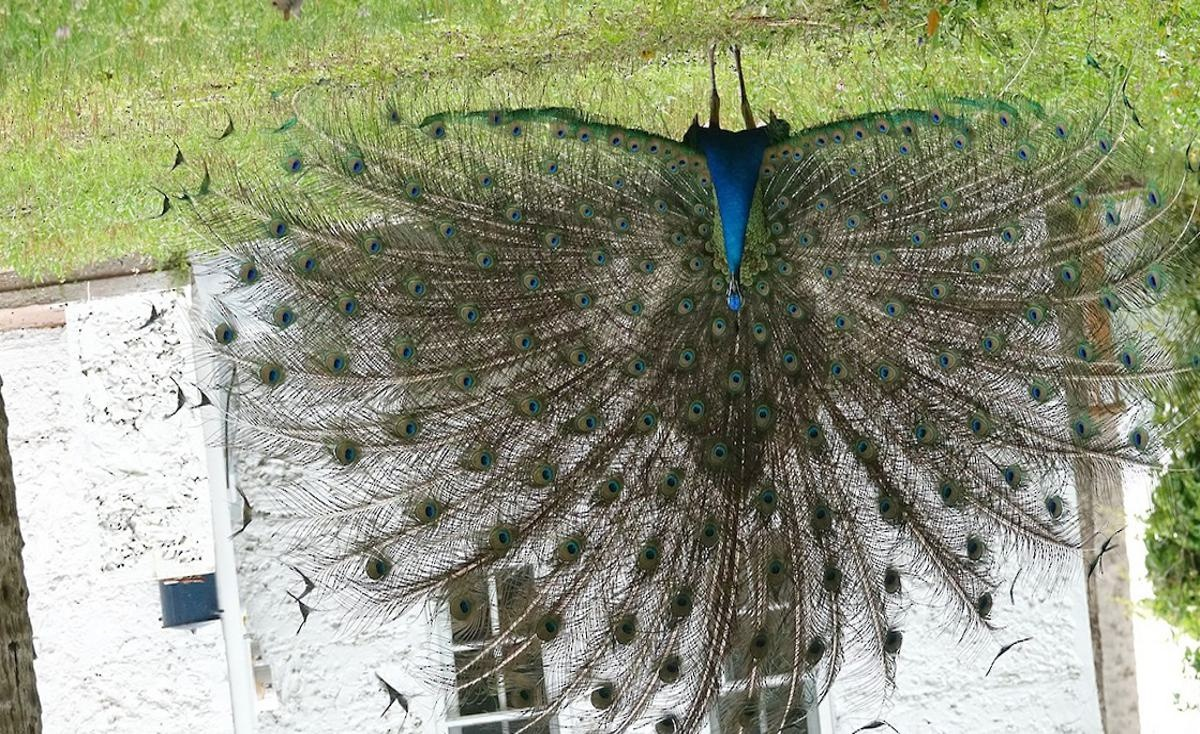peacock: (255, 79, 1050, 638)
